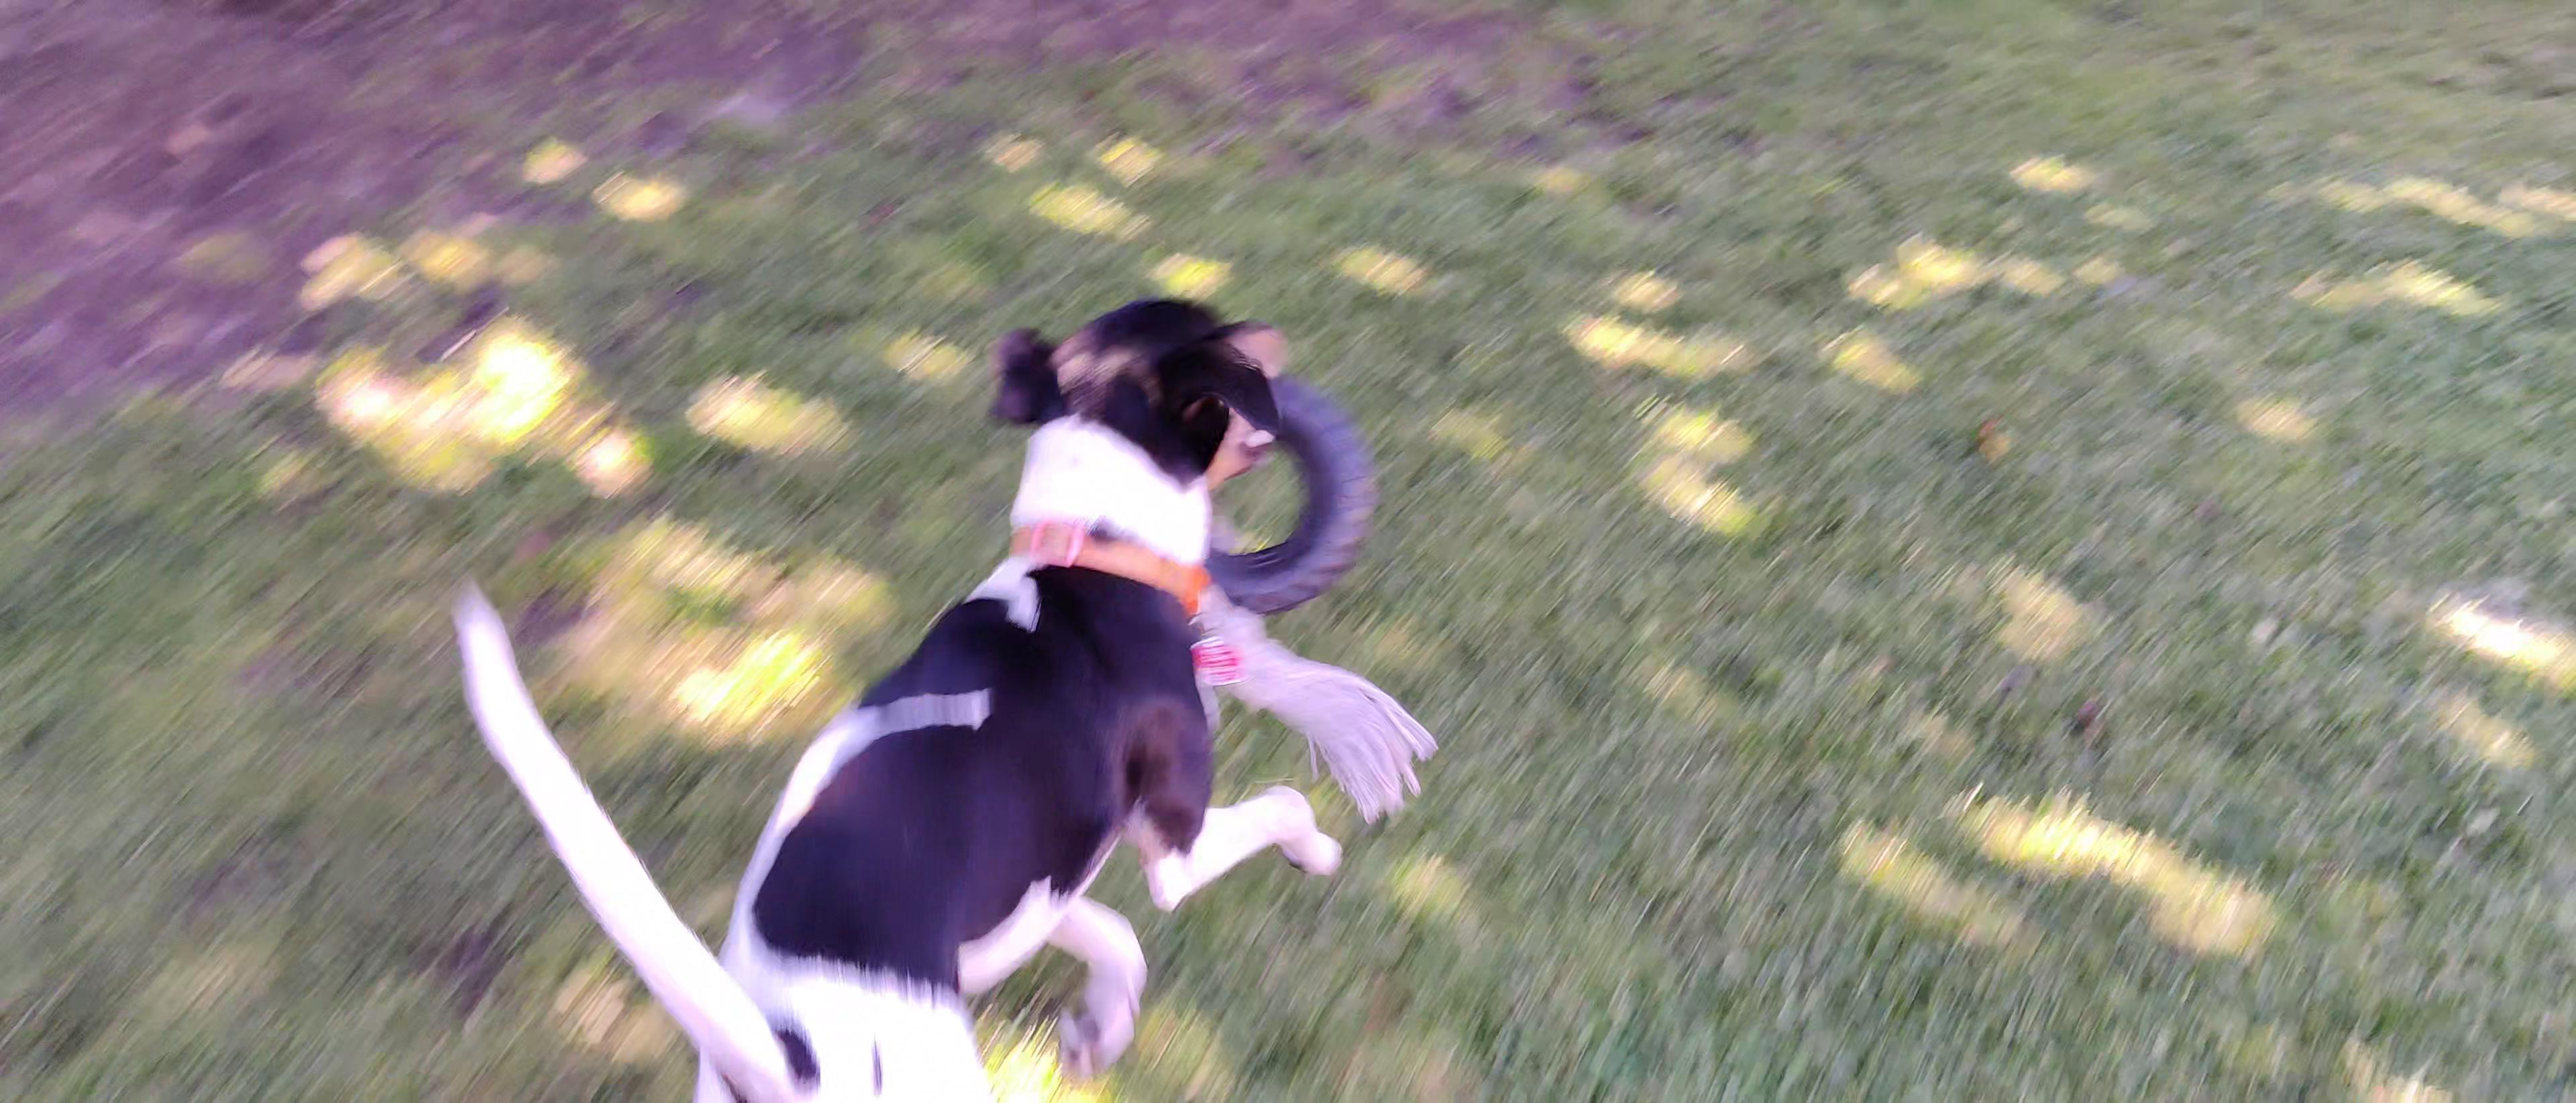Dog: (435, 286, 1347, 1103)
